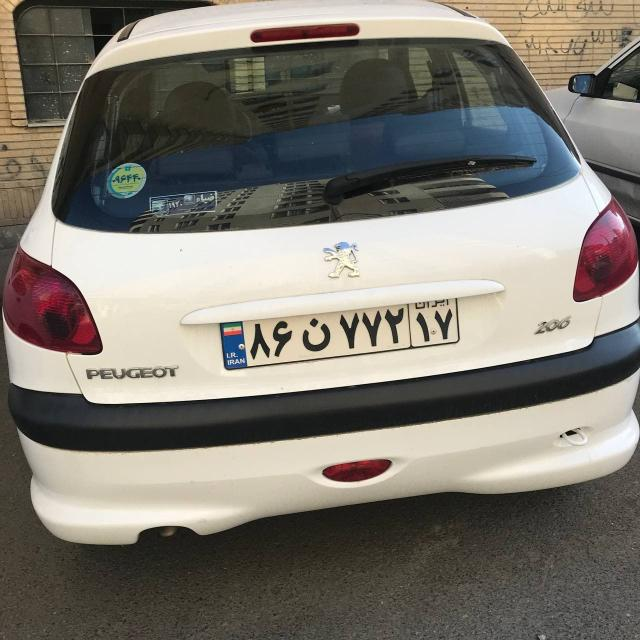Plates: (219, 298, 462, 370)
